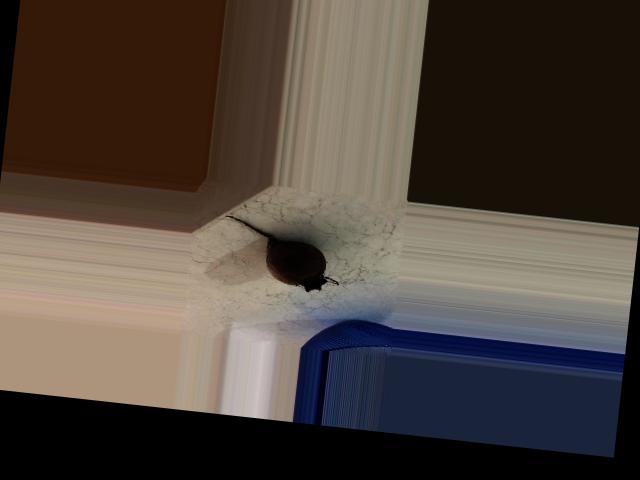beet: (218, 214, 344, 294)
